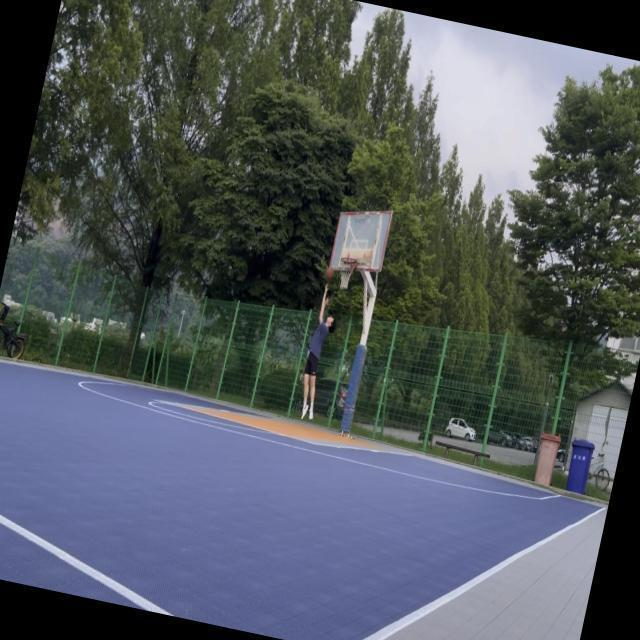Ball: (324, 266, 334, 282)
